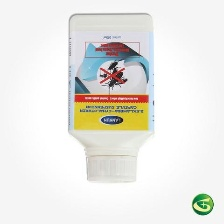insecticide: (64, 9, 160, 190)
